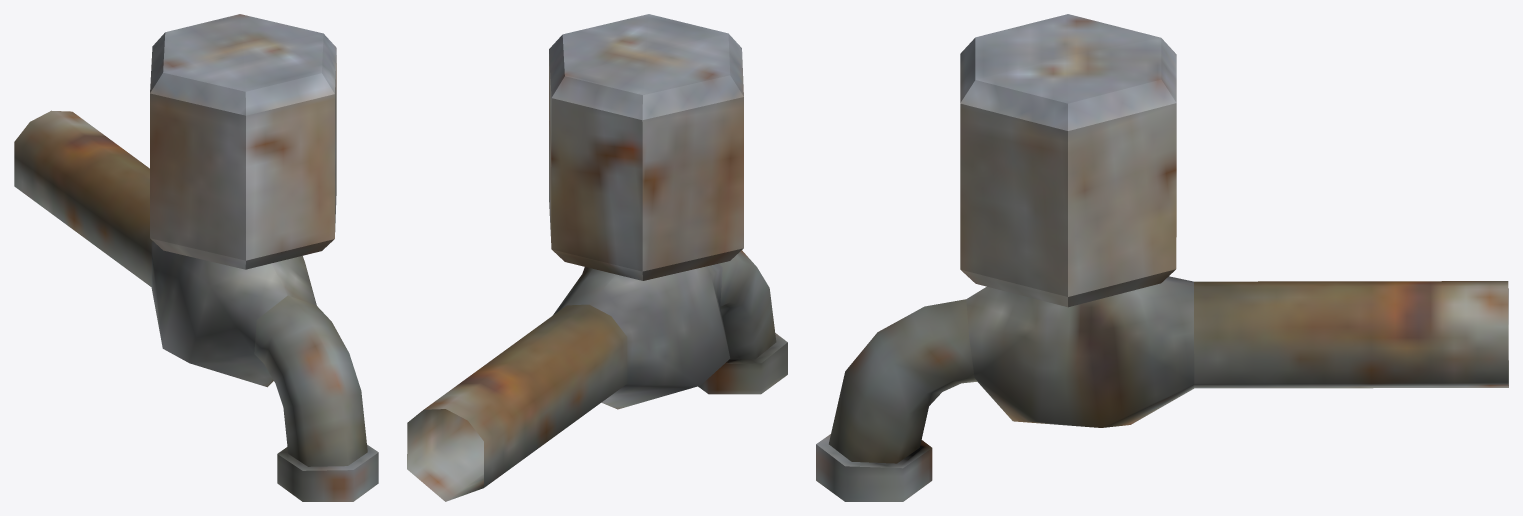
Rendered from Tap_T01.FBX.
3 renders of one model, left to right at view 1: azimuth 30°, elevation 25°; view 2: azimuth 150°, elevation 25°; view 3: azimuth 270°, elevation 25°, orthographic. The views are drawn at different scales.
Visible parts, largest first — view 1: Tap_T01; view 2: Tap_T01; view 3: Tap_T01.
Boxes of the visible parts, x1,y1,x2,y2 form: Tap_T01: (14,14,378,501); Tap_T01: (407,14,787,501); Tap_T01: (816,14,1508,501).
Bounding box in the file's own units: 7.9 × 14.98 × 22.16.
